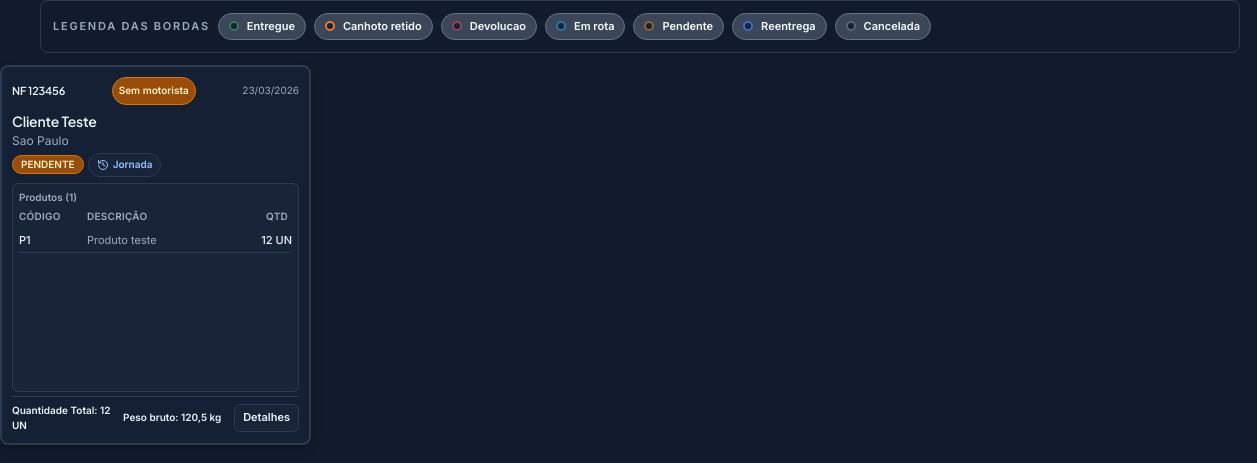
it: CardDanfes › exibe peso bruto, endereço completo e o representante da nota
The image size is (1257, 463).
Expected: the text "Peso bruto: 120,5 kg" is shown, [123,410,230,425]
Step 1. Click the button with aria-label "Mostrar detalhes da NF 123456" → (267, 418), box [234,404,299,432]
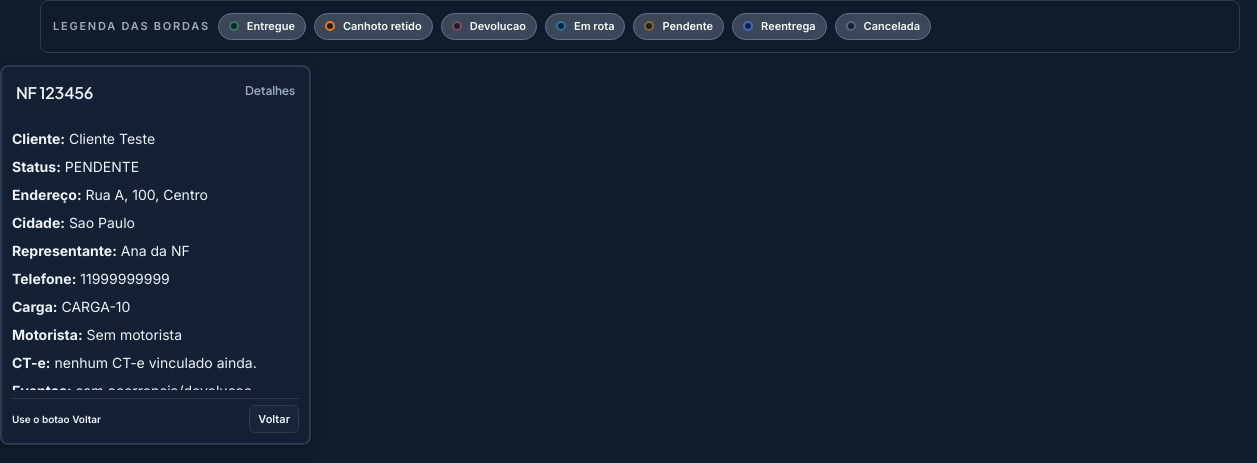
Now the text "Rua A, 100, Centro" is shown, box [86,186,208,202]
Now the text "Ana da NF" is shown, box [121,242,190,258]
